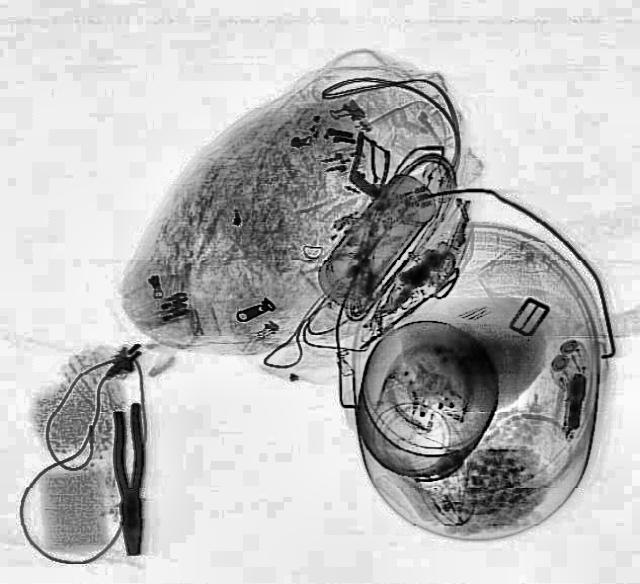Pliers: (110, 403, 148, 555)
